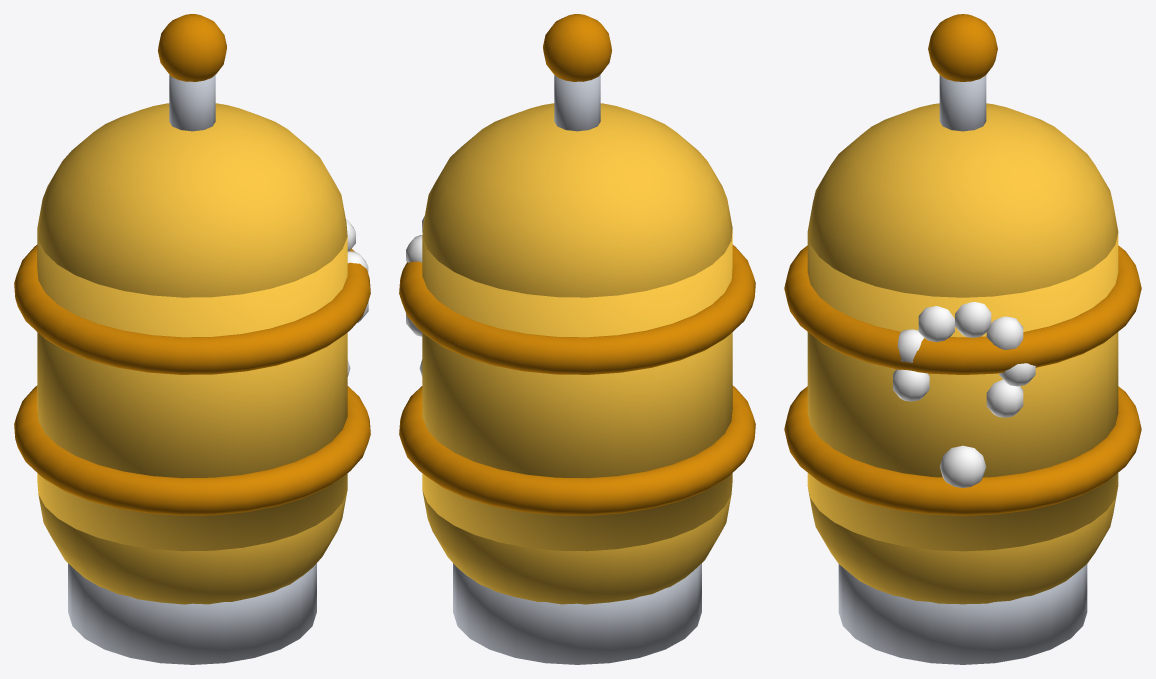
The model's file is SM_Capsule_Legendary.fbx.
3 views of the same model, side by side, from view 1: azimuth 30°, elevation 25°; view 2: azimuth 150°, elevation 25°; view 3: azimuth 270°, elevation 25° (orthographic).
Parts seen in each view (by area): view 1: SM_Capsule_Legendary; view 2: SM_Capsule_Legendary; view 3: SM_Capsule_Legendary.
Boxes of the visible parts, x1=… form: SM_Capsule_Legendary: x1=14, y1=14, x2=370, y2=664; SM_Capsule_Legendary: x1=399, y1=14, x2=755, y2=664; SM_Capsule_Legendary: x1=784, y1=14, x2=1141, y2=664.
Size of what is drawn, in the model's own units: 0.46 by 0.845 by 0.46.
Materials: 1 (1 with a texture image).
